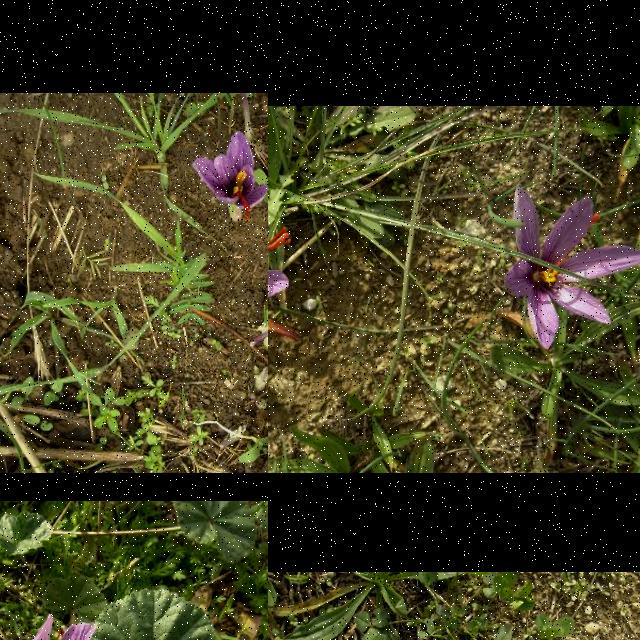flower: (504, 185, 640, 349), (193, 132, 268, 220)
